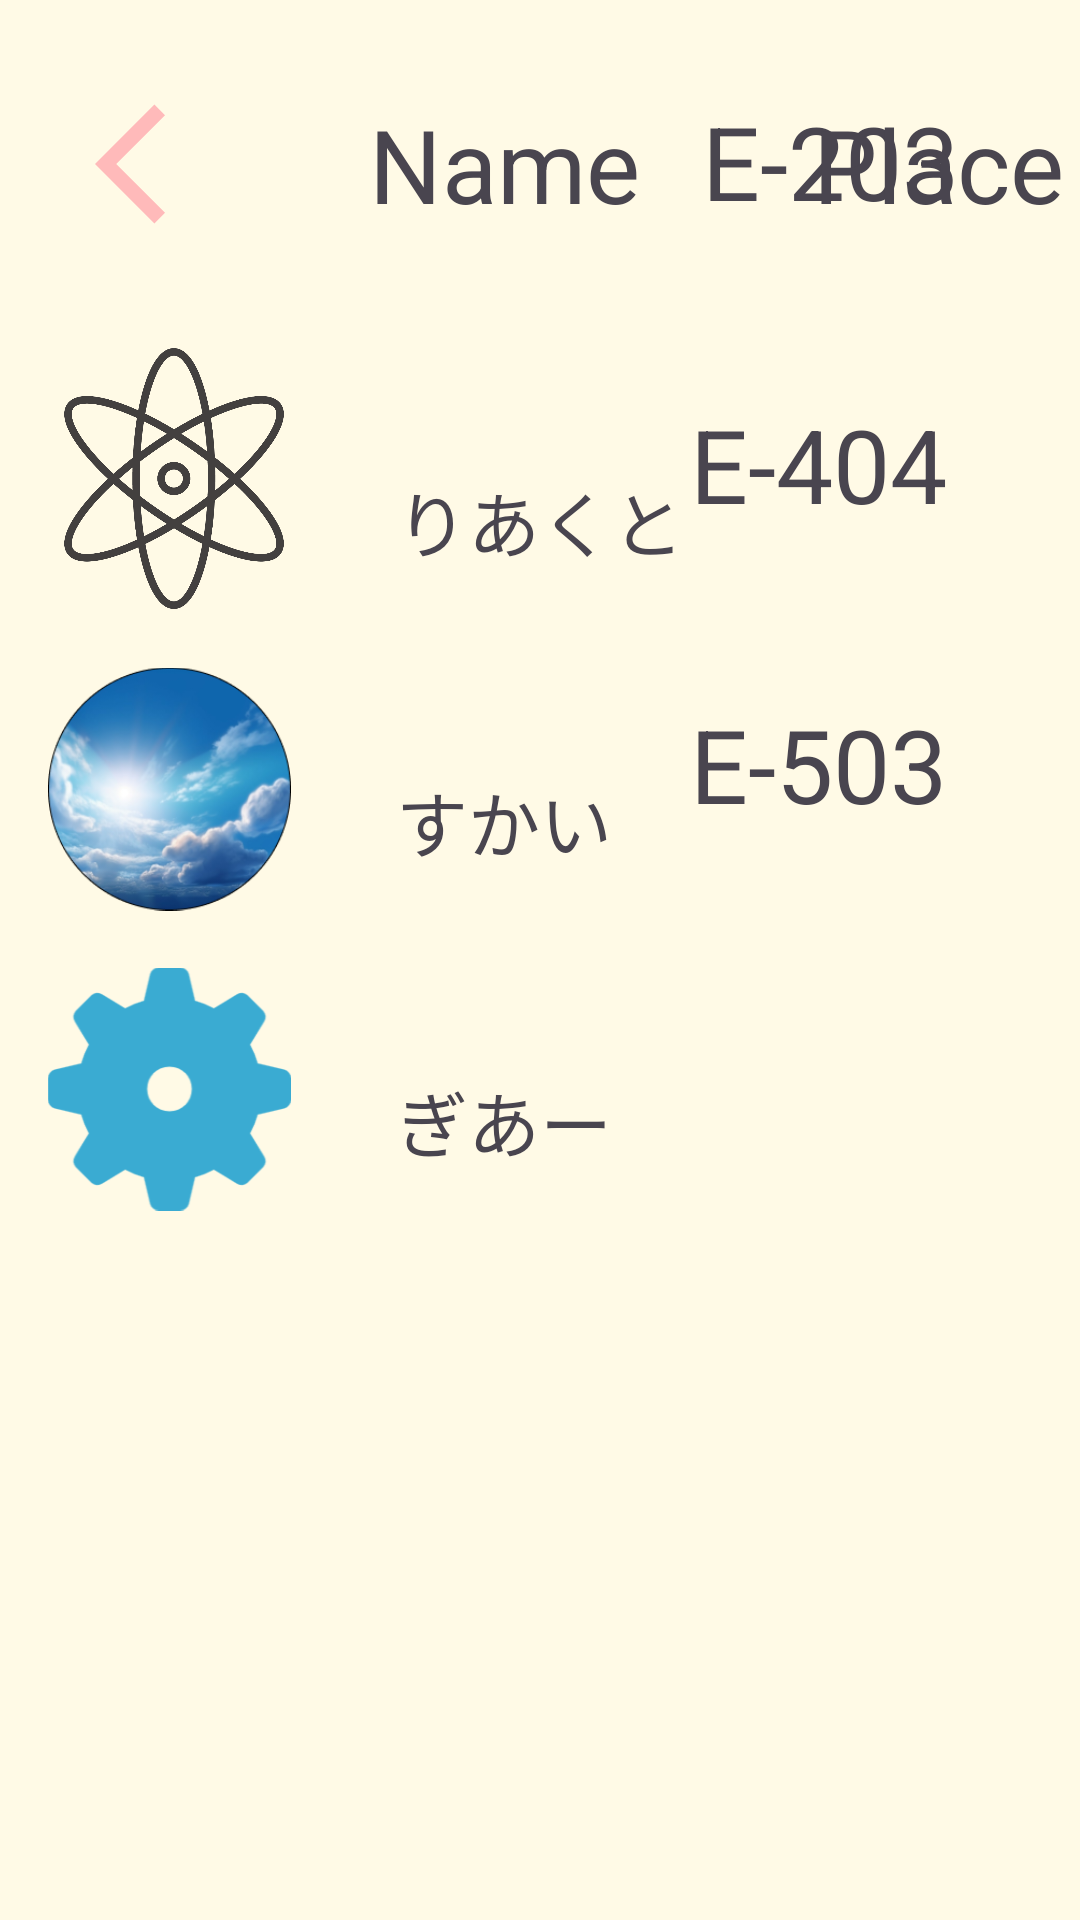

Named icons in this screenshot (1080x1920) and their bounding boxes, (x1, y1, x2, y2):
gear: (48, 968, 291, 1211)
nuclear: (64, 348, 284, 609)
sky: (48, 668, 291, 911)
このボタンは戻るボタンの仮置きです: (95, 105, 165, 223)
